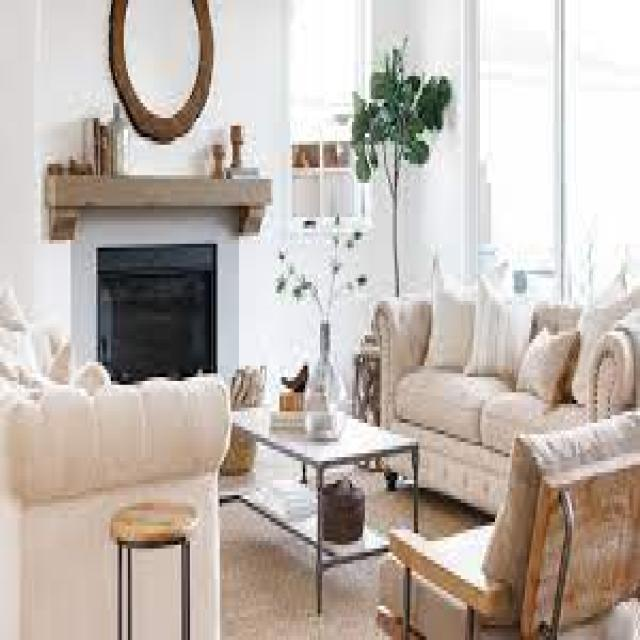Sofa: (368, 223, 640, 501), (0, 337, 227, 640), (378, 407, 640, 631)
Table: (218, 375, 419, 577)
